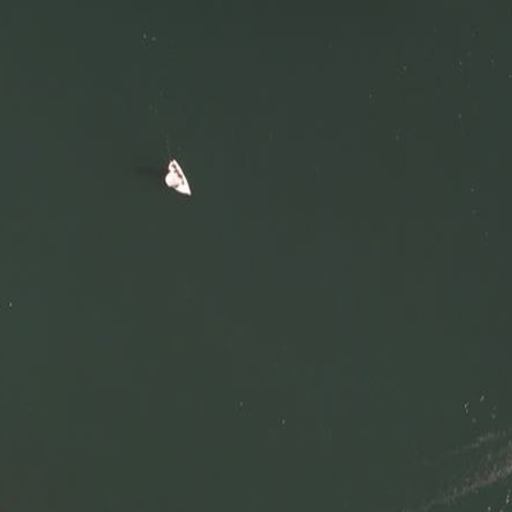ship: (160, 156, 194, 199)
